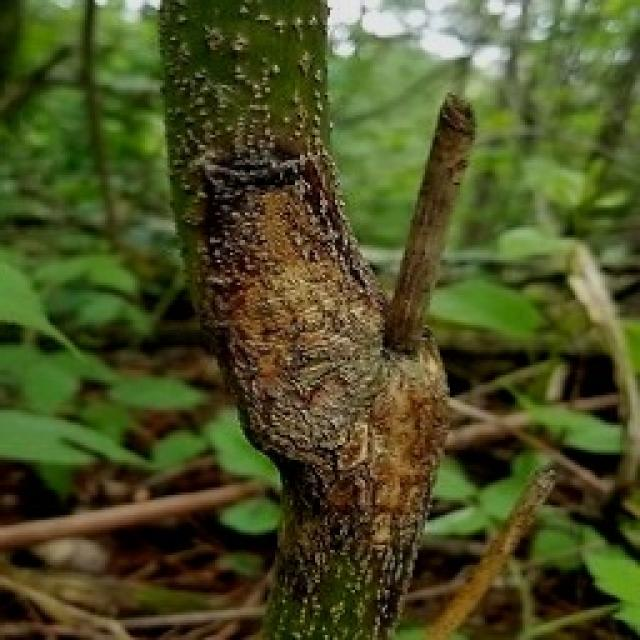Golden_canker: (150, 0, 478, 638)
